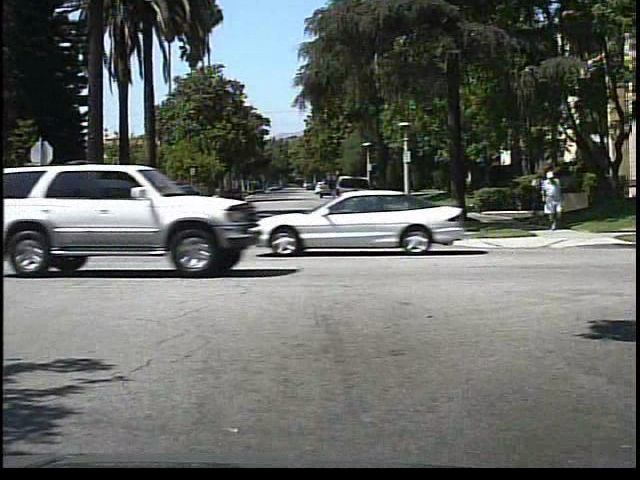person: (538, 170, 566, 234)
